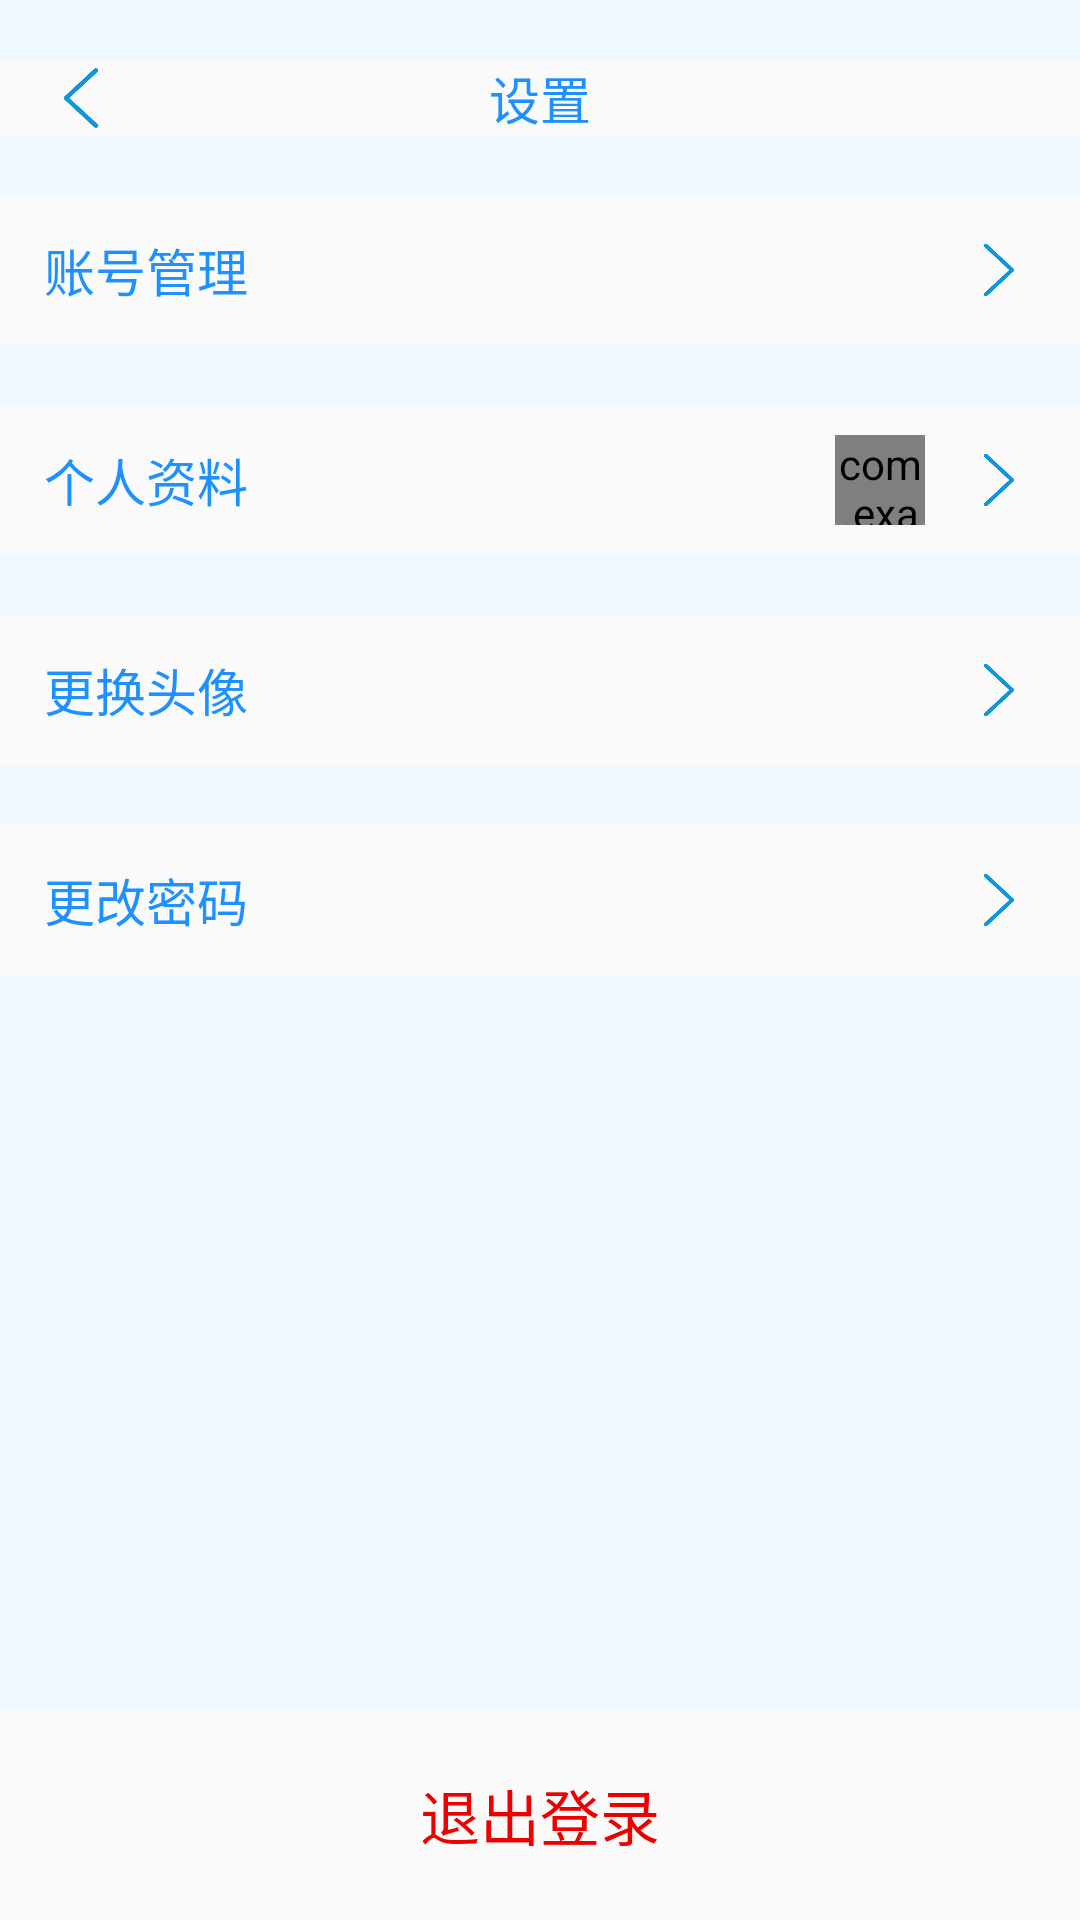

Named icons in this screenshot (1080 x 1920) and their centers, (x,y):
fanhui: (81,98)
youjiantou: (999,270), (999,480), (999,690), (999,900)
